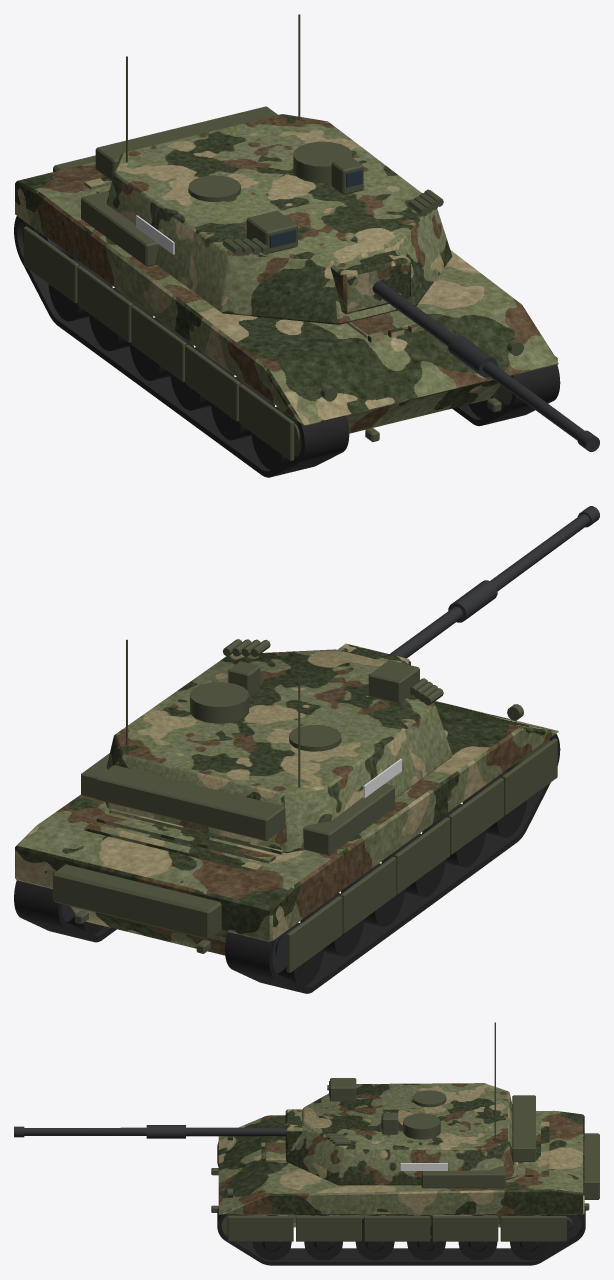
The model's file is MBT_Main.fbx.
The picture shows the model from 3 angles, top to bottom: view 1: azimuth 30°, elevation 25°; view 2: azimuth 150°, elevation 25°; view 3: azimuth 270°, elevation 25°; orthographic projection. The views are drawn at different scales.
Parts seen in each view (by area): view 1: Hull, Turret, Details, Turret_Details, Main_Gun, Left_Tracks, Right_Tracks, Wheel_L_06, Wheel_L_04, Wheel_L_03, Wheel_L_05, Wheel_L_02 (+2 smaller); view 2: Hull, Turret, Details, Turret_Details, Left_Tracks, Main_Gun, Right_Tracks, Wheel_L_02, Wheel_L_05, Wheel_L_01, Wheel_L_03, Wheel_L_04 (+1 smaller); view 3: Hull, Turret, Details, Turret_Details, Right_Tracks, Main_Gun, Wheel_R_04, Wheel_R_03, Wheel_R_05, Wheel_R_06, Wheel_R_01, Wheel_R_02 (+2 smaller).
Boxes of the visible parts, left/top/right/bottom form: Hull: left=15, top=162, right=558, bottom=433; Turret: left=106, top=114, right=452, bottom=324; Details: left=23, top=155, right=557, bottom=460; Turret_Details: left=95, top=14, right=443, bottom=255; Main_Gun: left=330, top=249, right=599, bottom=451; Left_Tracks: left=14, top=216, right=349, bottom=477; Right_Tracks: left=452, top=347, right=560, bottom=426; Wheel_L_06: left=48, top=258, right=112, bottom=321; Wheel_L_04: left=129, top=317, right=193, bottom=380; Wheel_L_03: left=170, top=347, right=234, bottom=410; Wheel_L_05: left=89, top=287, right=153, bottom=351; Wheel_L_02: left=211, top=377, right=274, bottom=440; Hull: left=15, top=701, right=558, bottom=955; Turret: left=105, top=649, right=452, bottom=853; Details: left=53, top=704, right=557, bottom=972; Turret_Details: left=95, top=639, right=443, bottom=841; Left_Tracks: left=225, top=730, right=560, bottom=993; Main_Gun: left=337, top=506, right=599, bottom=665; Right_Tracks: left=14, top=880, right=116, bottom=942; Wheel_L_02: left=422, top=804, right=486, bottom=867; Wheel_L_05: left=300, top=893, right=364, bottom=956; Wheel_L_01: left=462, top=774, right=526, bottom=837; Wheel_L_03: left=381, top=833, right=445, bottom=897; Wheel_L_04: left=341, top=863, right=404, bottom=926; Hull: left=218, top=1110, right=584, bottom=1227; Turret: left=286, top=1083, right=515, bottom=1185; Details: left=211, top=1133, right=599, bottom=1241; Turret_Details: left=327, top=1022, right=535, bottom=1161; Right_Tracks: left=217, top=1206, right=585, bottom=1265; Main_Gun: left=14, top=1109, right=302, bottom=1154; Wheel_R_04: left=407, top=1215, right=445, bottom=1260; Wheel_R_03: left=355, top=1215, right=394, bottom=1260; Wheel_R_05: left=458, top=1215, right=497, bottom=1260; Wheel_R_06: left=510, top=1215, right=548, bottom=1260; Wheel_R_01: left=252, top=1215, right=291, bottom=1260; Wheel_R_02: left=304, top=1215, right=342, bottom=1260.
Size of the model in its own units: 3.73 by 3.72 by 11.16.
